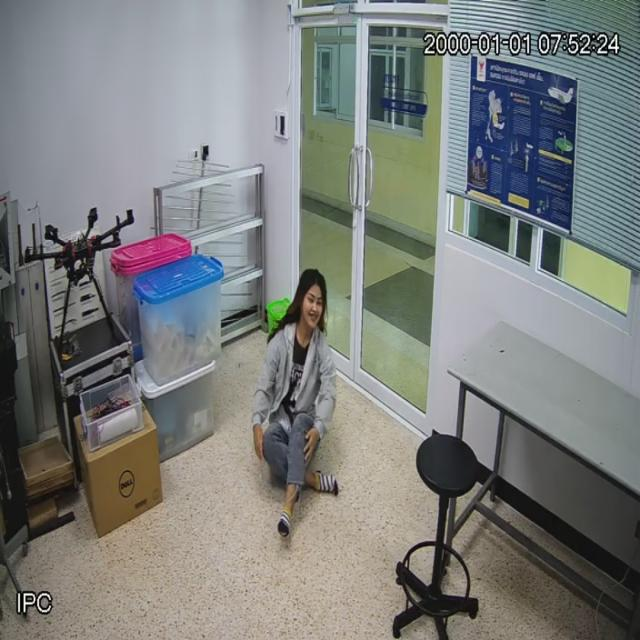fall: (252, 270, 336, 519)
